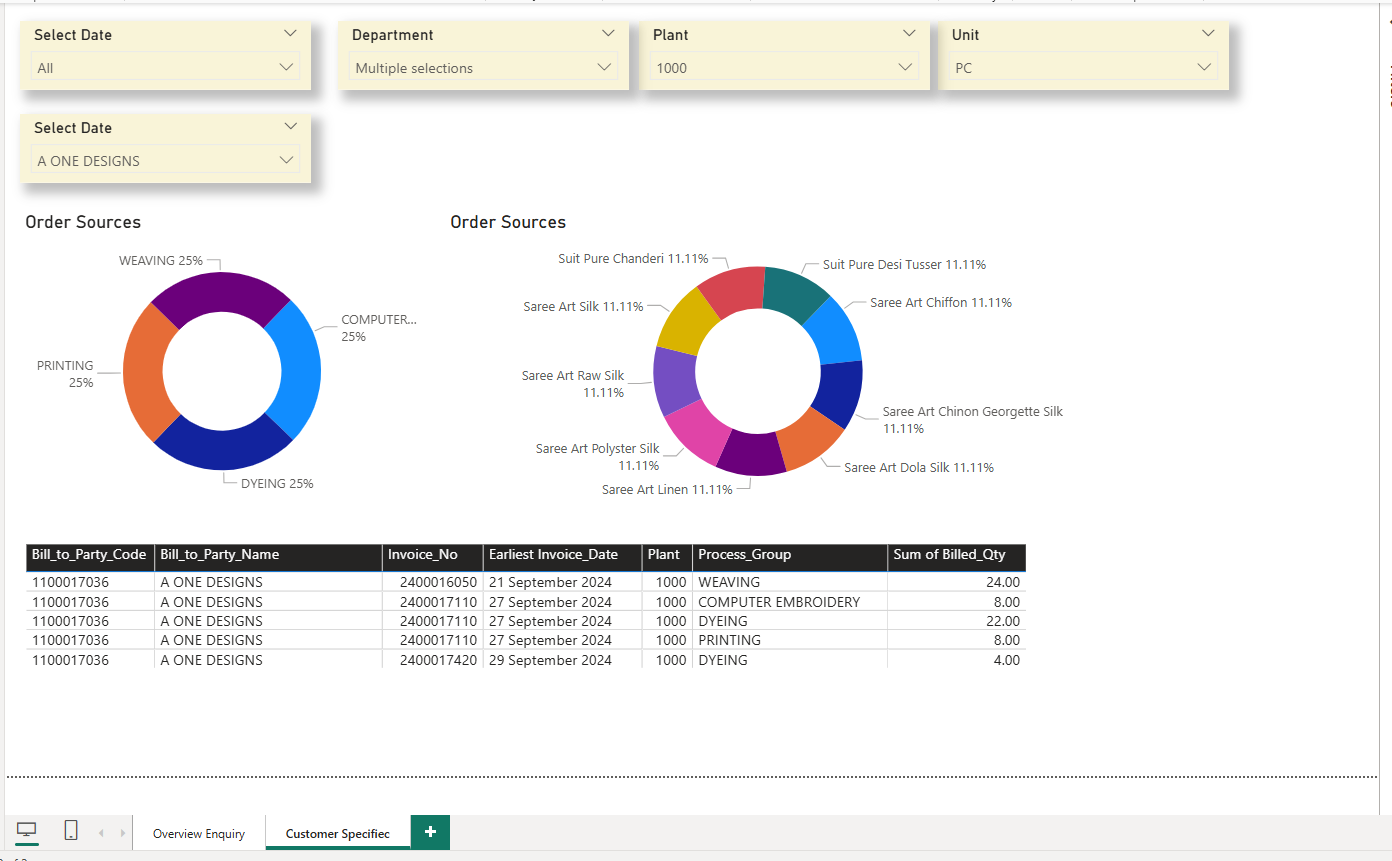

The dashboard page shown, as its layout file describes it:
{"tool":"powerbi","page":{"name":"Customer Specifiec","canvas":[1280,720],"ordinal":1},"visuals":[{"type":"slicer","fields":{"Values":["yngs_sales sales_group_master.Sales_Group"]},"box":[310.2,16.3,270.8,64.3],"z":0},{"type":"slicer","fields":{"Values":["yngs_sales plant_master.Plant_Code"]},"box":[590.5,16.3,270.8,64.3],"z":1},{"type":"slicer","fields":{"Values":["Unit Of Measurment.UOM"]},"box":[869,16.3,270.8,64.3],"z":2},{"type":"slicer","fields":{"Values":["DateTable.Date"]},"box":[14.4,16.3,270.8,64.3],"z":3},{"type":"tableEx","fields":{"Values":["sales_invoice_data.Bill_to_Party_Code","sales_invoice_data.Bill_to_Party_Name","sales_invoice_data.Invoice_No","sales_invoice_data.Invoice_Date","sales_invoice_data.Plant","sales_invoice_data.Process_Group","Sum(sales_invoice_data.Billed_Qty)"]},"box":[14,499.3,953,198.4],"z":4},{"type":"slicer","fields":{"Values":["sales_invoice_data.Bill_to_Party_Name"]},"box":[14,103.4,271.1,64.3],"z":5},{"type":"donutChart","title":"Order Sources","fields":{"Y":["inquiry inquirydetails.Total Enquiries"],"Category":["sales_invoice_data.Process_Group"]},"box":[14,193.8,376.4,279.5],"z":6},{"type":"donutChart","title":"Order Sources","fields":{"Y":["inquiry inquirydetails.Total Enquiries"],"Category":["sales_invoice_data.Material_Grp_Desc"]},"box":[409.9,193.8,583.2,279.5],"z":7}]}

Visuals, with their boxes on the page's 1280x720 design canvas (x1, y1, x2, y2). These are canvas units, not pixel positions in the 1392x861 screenshot, which may show the page scaled, cropped or inside an application window:
slicer - yngs_sales sales_group_master.Sales_Group: crop(310, 16, 581, 81)
slicer - yngs_sales plant_master.Plant_Code: crop(590, 16, 861, 81)
slicer - Unit Of Measurment.UOM: crop(869, 16, 1140, 81)
slicer - DateTable.Date: crop(14, 16, 285, 81)
tableEx - sales_invoice_data.Bill_to_Party_Code x sales_invoice_data.Bill_to_Party_Name: crop(14, 499, 967, 698)
slicer - sales_invoice_data.Bill_to_Party_Name: crop(14, 103, 285, 168)
"Order Sources" donutChart: crop(14, 194, 390, 473)
"Order Sources" donutChart: crop(410, 194, 993, 473)
